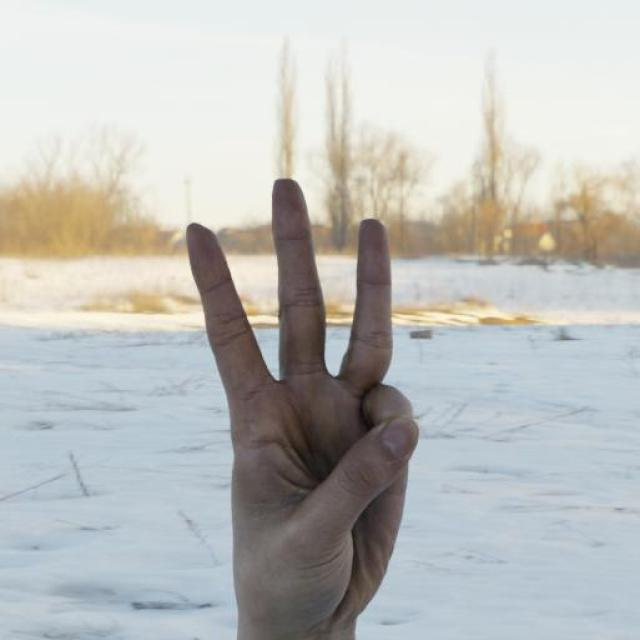W: (176, 170, 425, 640)
